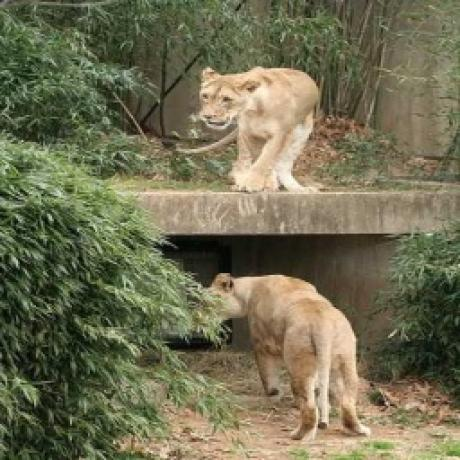Lion: (194, 266, 377, 442), (193, 64, 325, 194)
